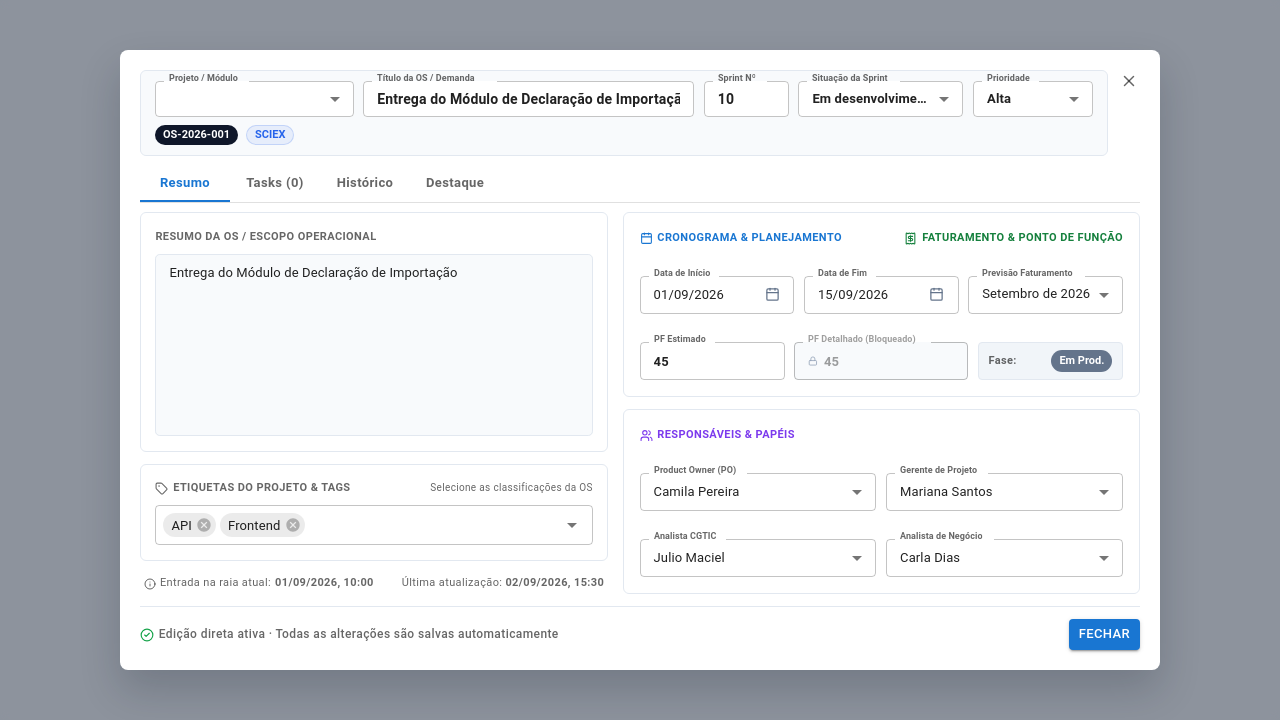
Test: SprintDetailsModal Component › aceita digitação ou colagem de datas e oferece os 12 meses para faturamento
Replace the text in the field labelled "Data de Início" with "05/10/2026" at (697, 295), box top-left (640, 277), bottom-right (754, 313)
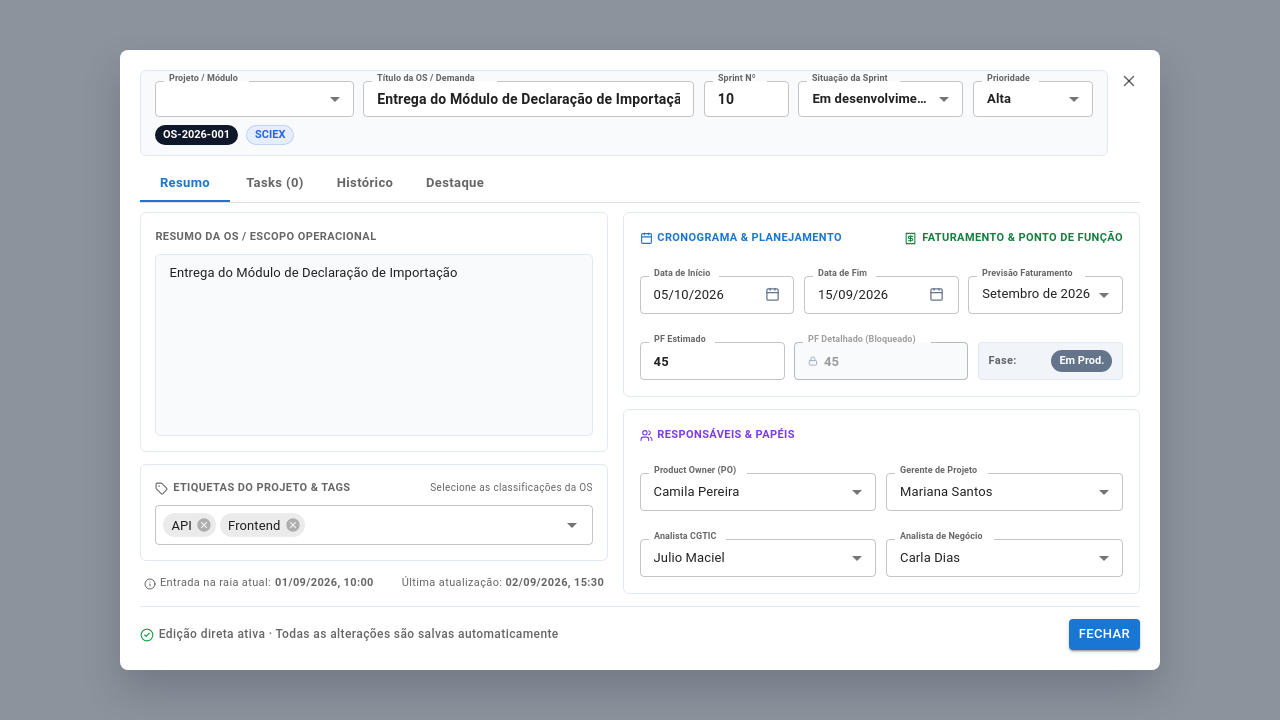
Press the mouse on the dropdown named "Previsão Faturamento" at (1036, 294), box top-left (982, 286), bottom-right (1090, 302)
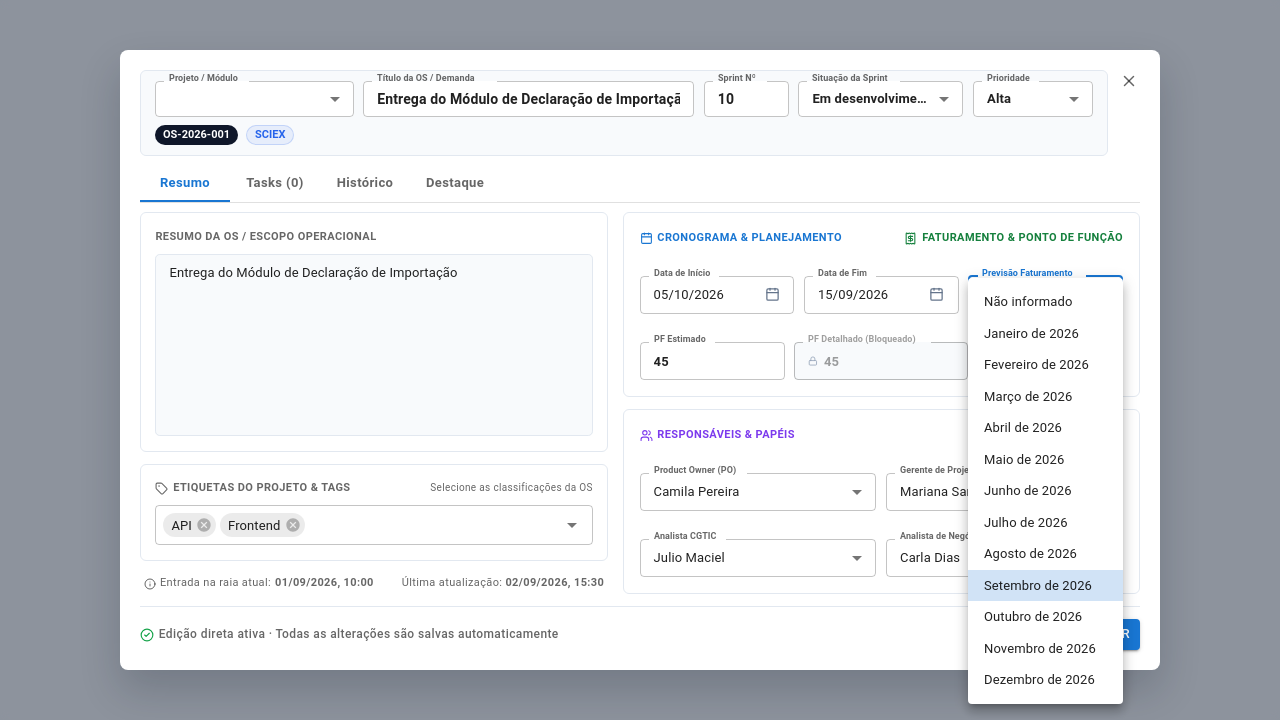
Now the number of options is 13
